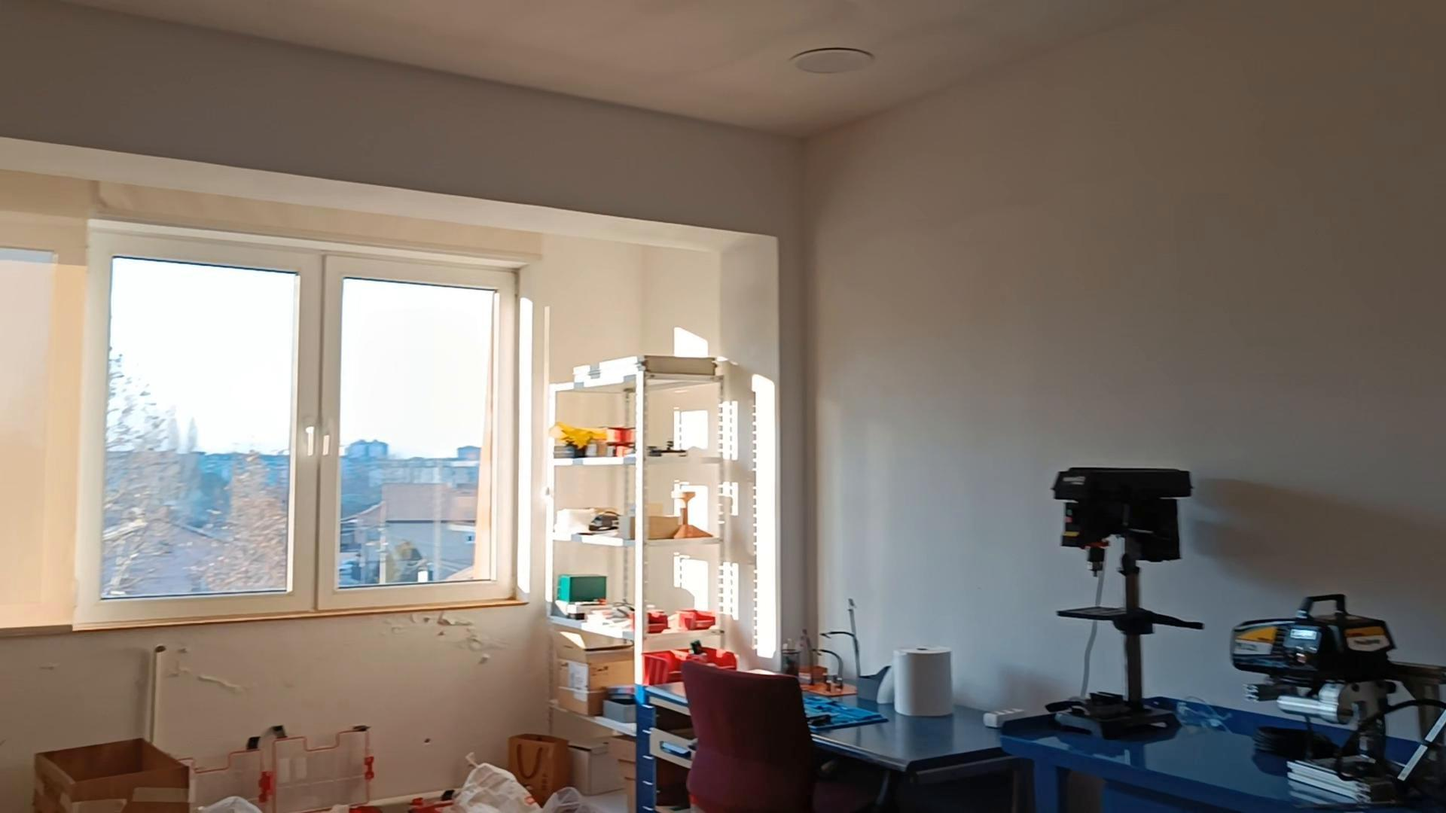ceiling: (54, 0, 1184, 134)
wall: (0, 0, 1445, 703), (0, 608, 545, 808)
